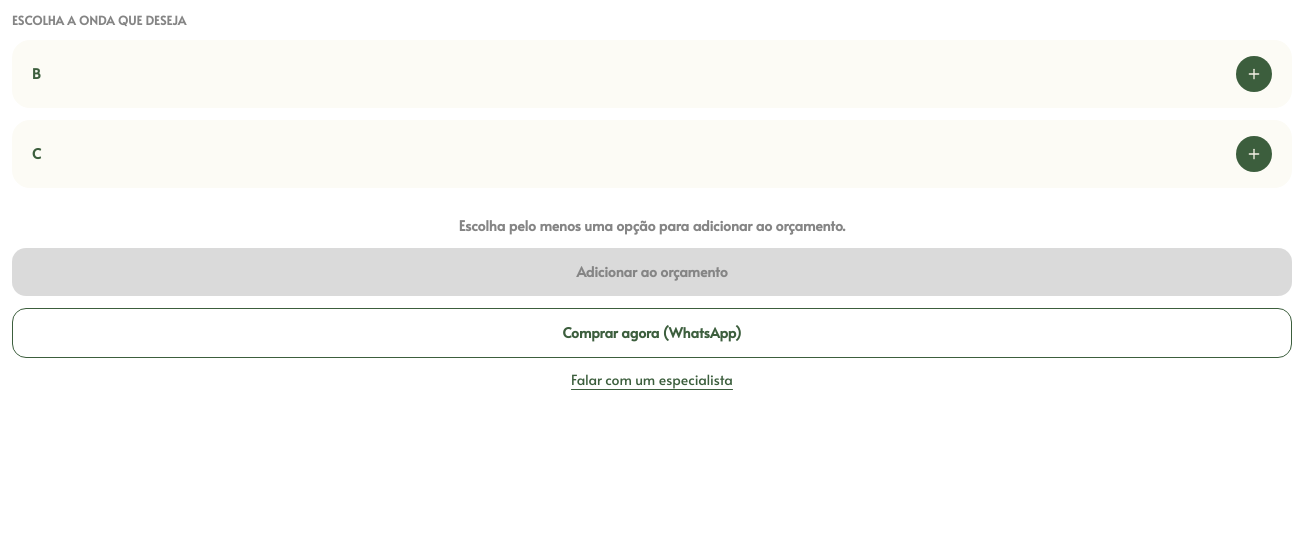
Scenario: os atalhos de quantidade (+10, +500, +1000) somam à quantidade atual
Click the checkbox labelled "B": (1254, 74) [12,40,1292,108]
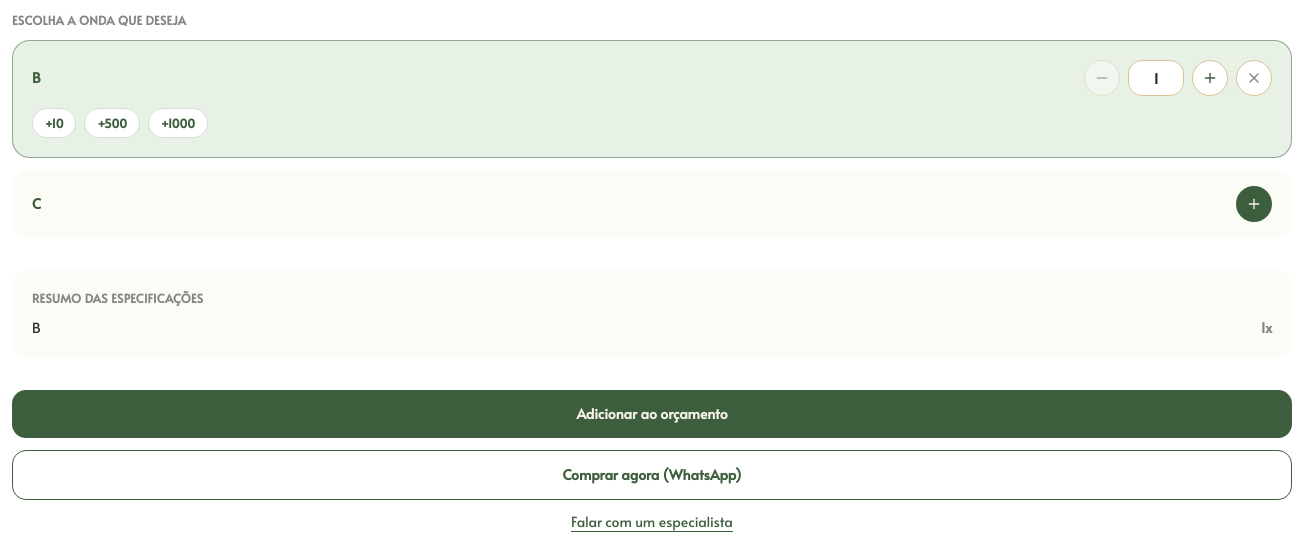
Click the button "+10": (54, 123) [32,108,76,138]
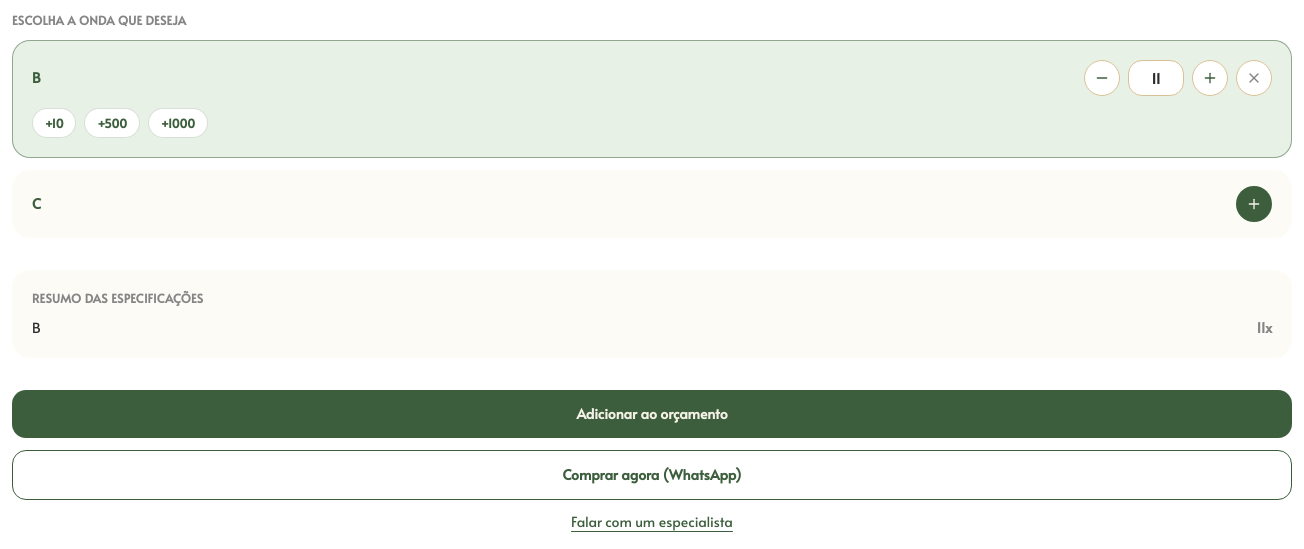
Click the button "+500": (112, 123) [84,108,140,138]
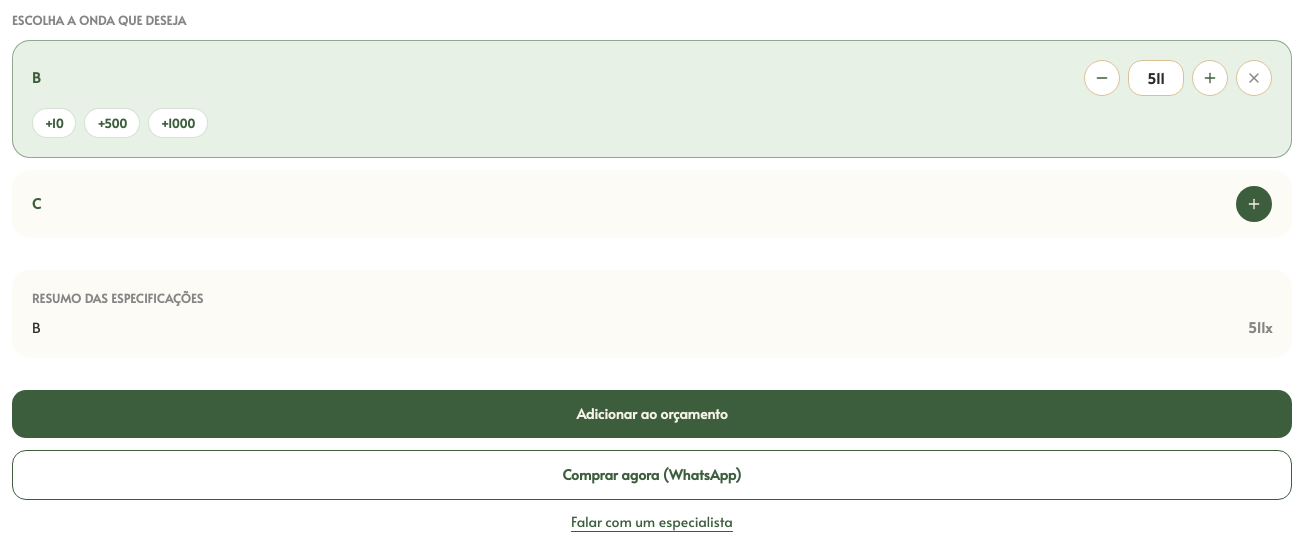
Result: the field named "Quantidade de B" holds "511" at [1128,60,1184,96]
